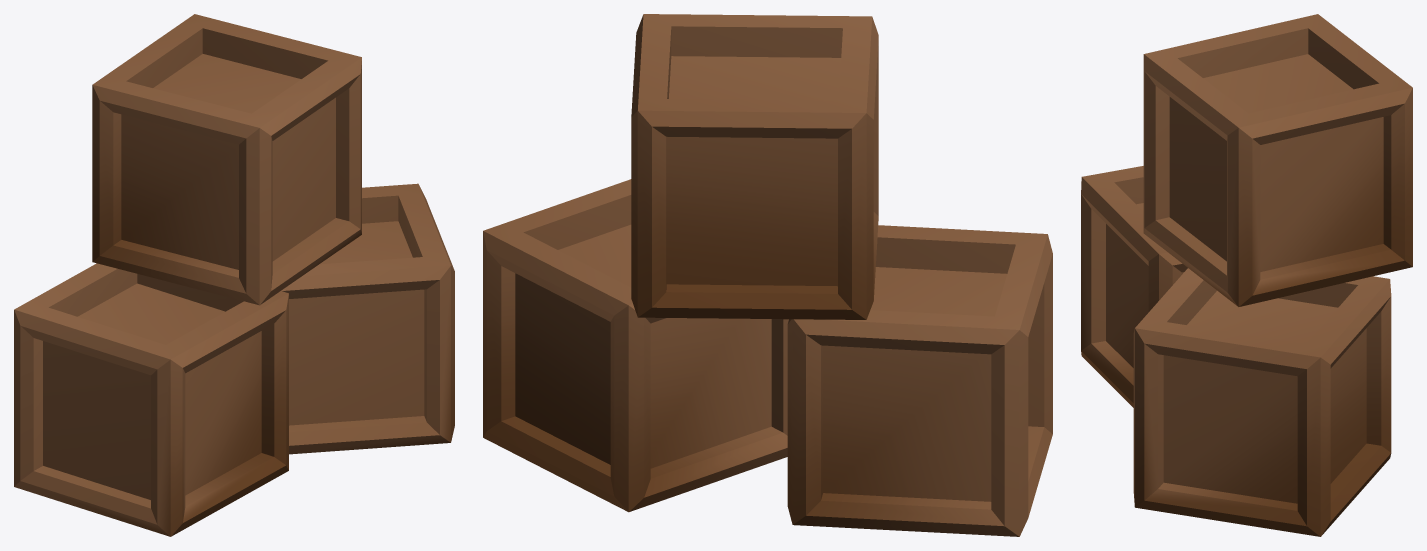
File: WoodenBox_Stack.gltf
3 views of the same model, side by side, from view 1: azimuth 30°, elevation 25°; view 2: azimuth 150°, elevation 25°; view 3: azimuth 270°, elevation 25° (orthographic). The views are drawn at different scales.
Parts seen in each view (by area): view 1: WoodenBox_Stack; view 2: WoodenBox_Stack; view 3: WoodenBox_Stack.
Part boxes in pixels (x1,y1,x2,y2): WoodenBox_Stack: (14,14,454,536); WoodenBox_Stack: (483,14,1052,536); WoodenBox_Stack: (1081,14,1412,536).
Bounding box in the file's own units: 2.25 × 1.77 × 1.48.
1 material, 1 textured.
